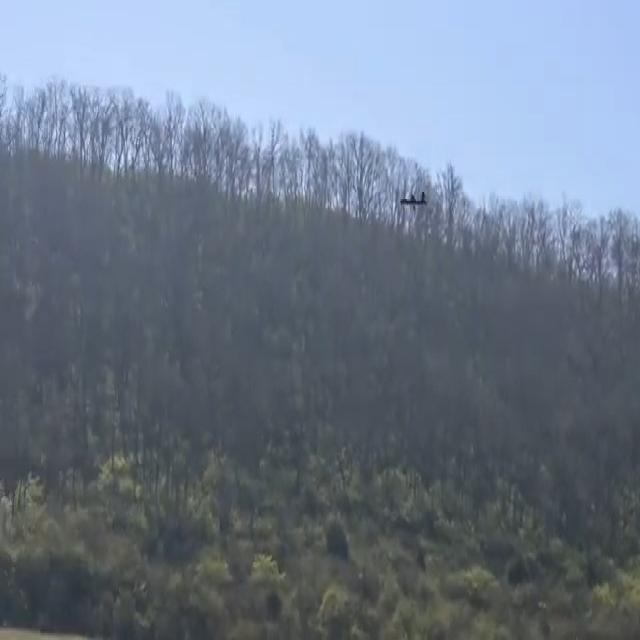iha: (400, 192, 426, 208)
